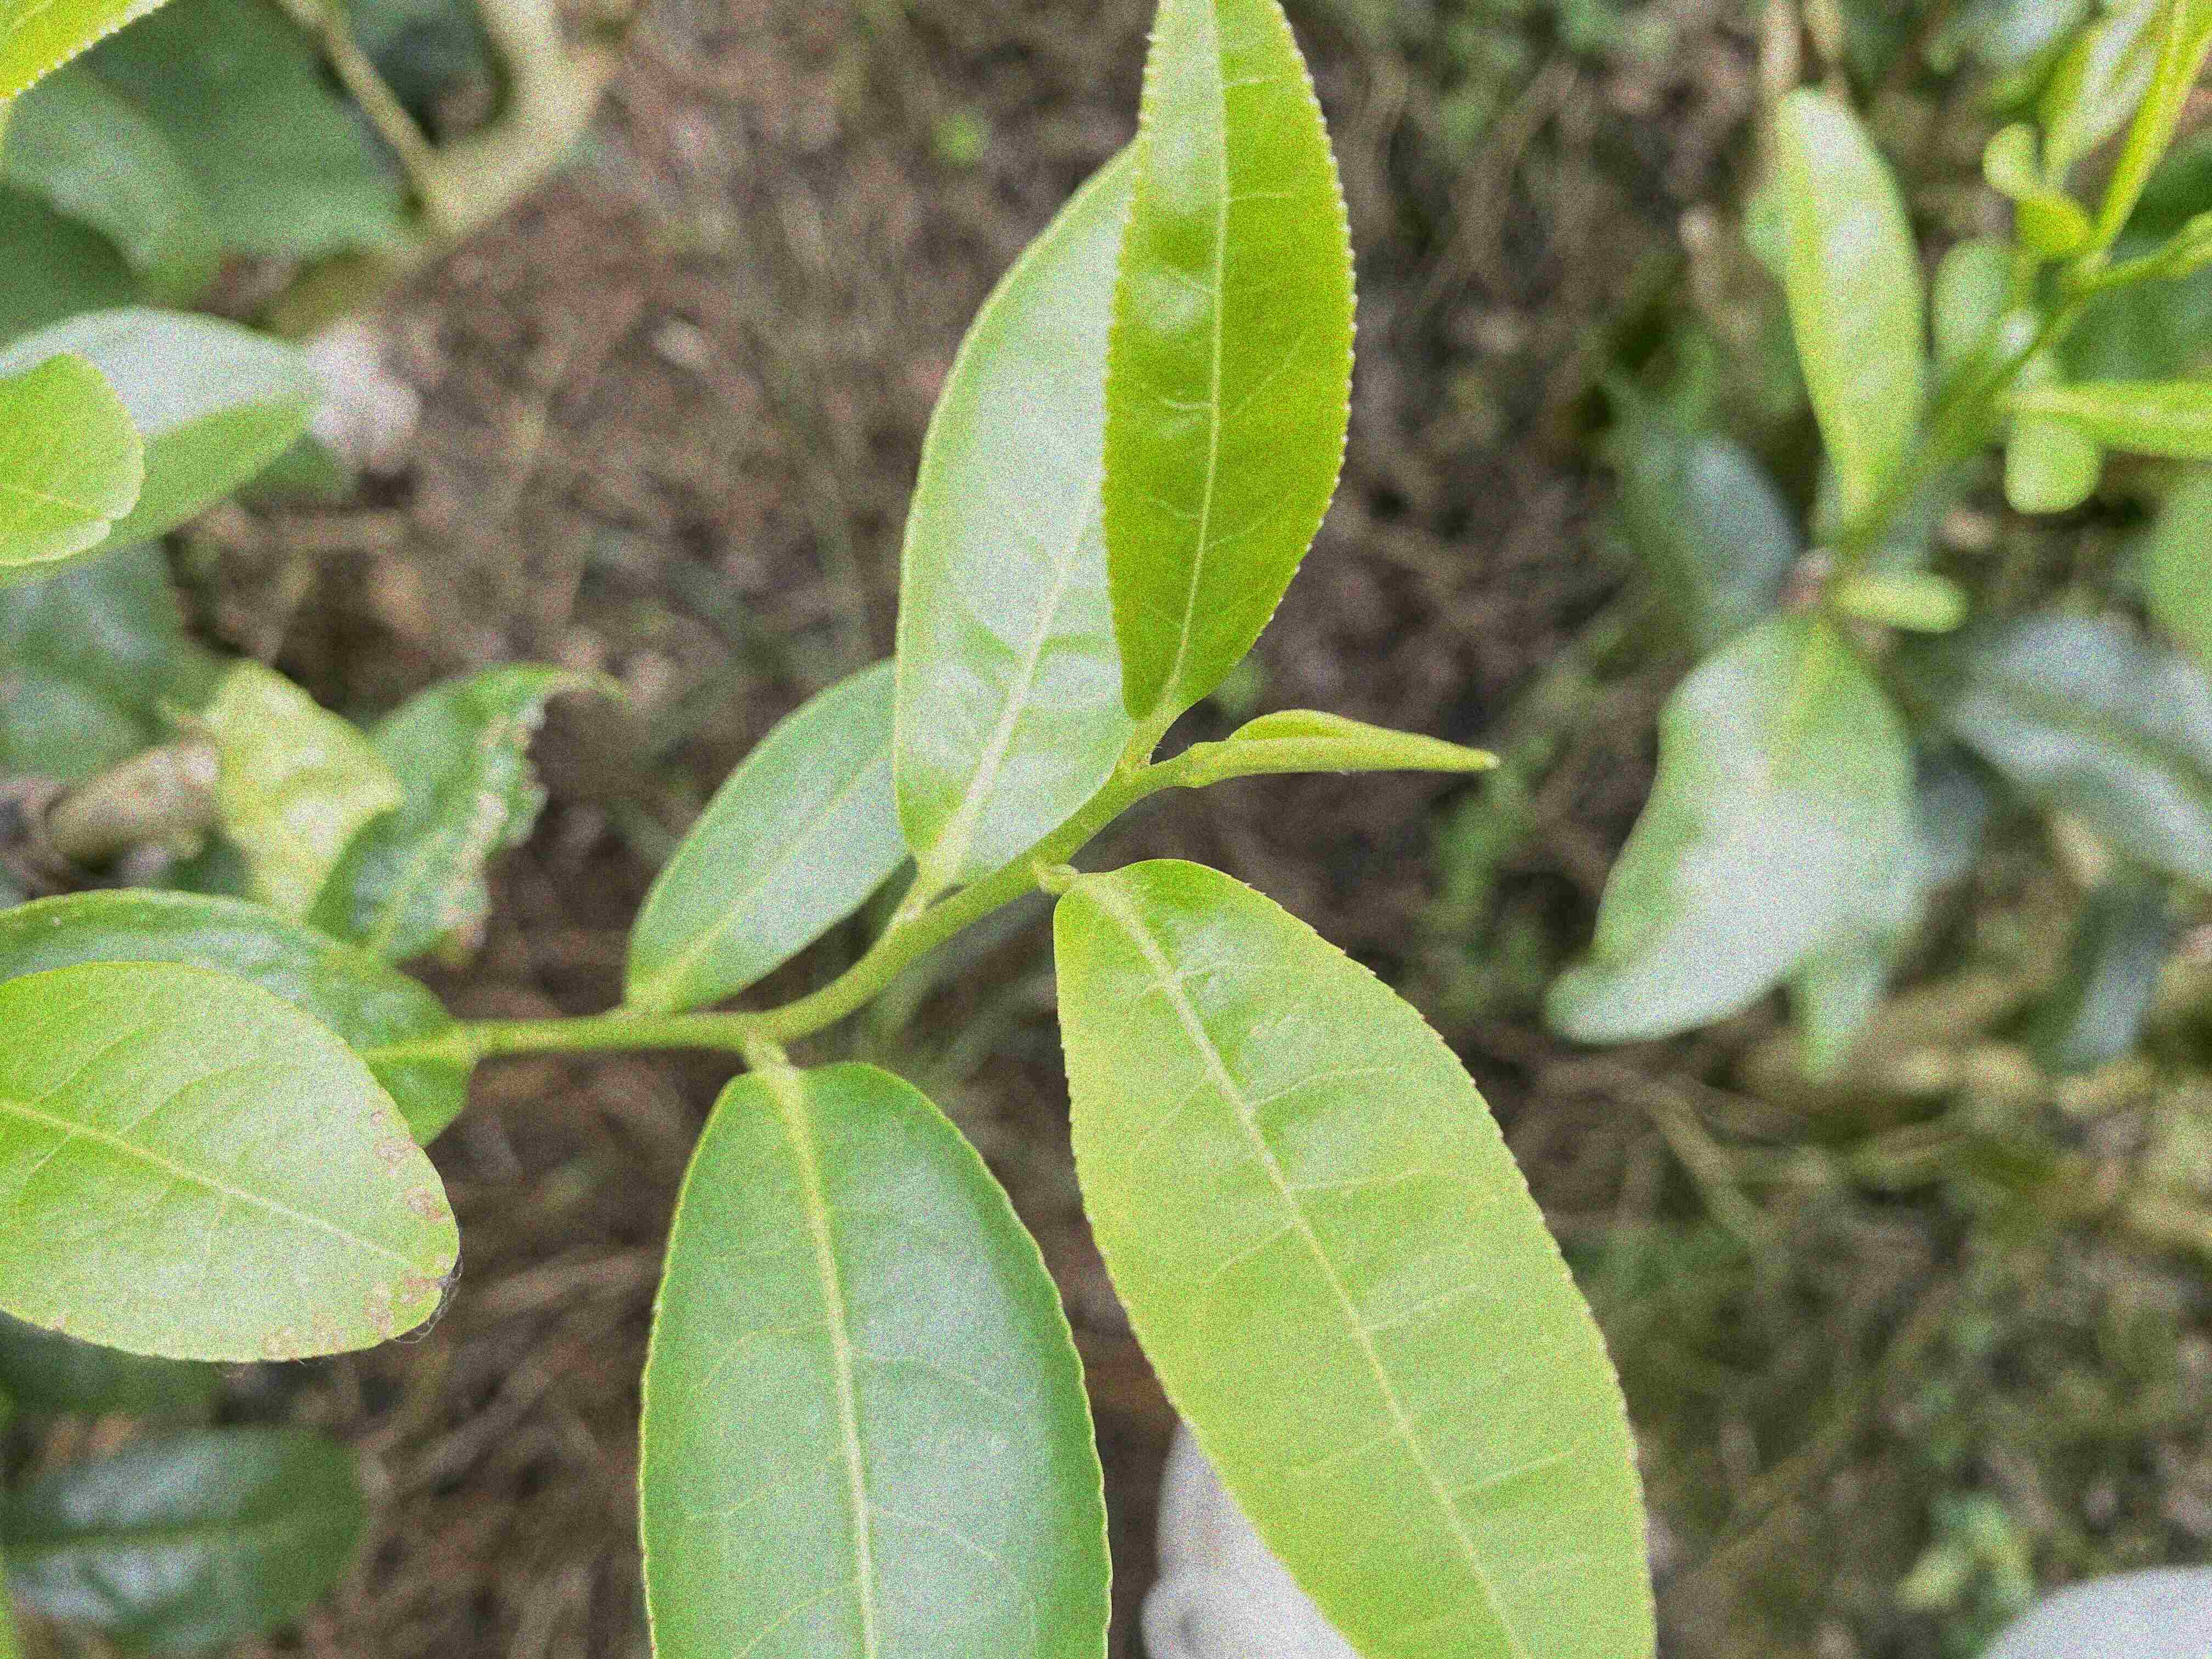healthy: (1052, 854, 1660, 1656), (632, 1058, 1116, 1657), (1099, 2, 1362, 725), (888, 153, 1141, 884)
tanju_high: (2, 955, 462, 1364)
